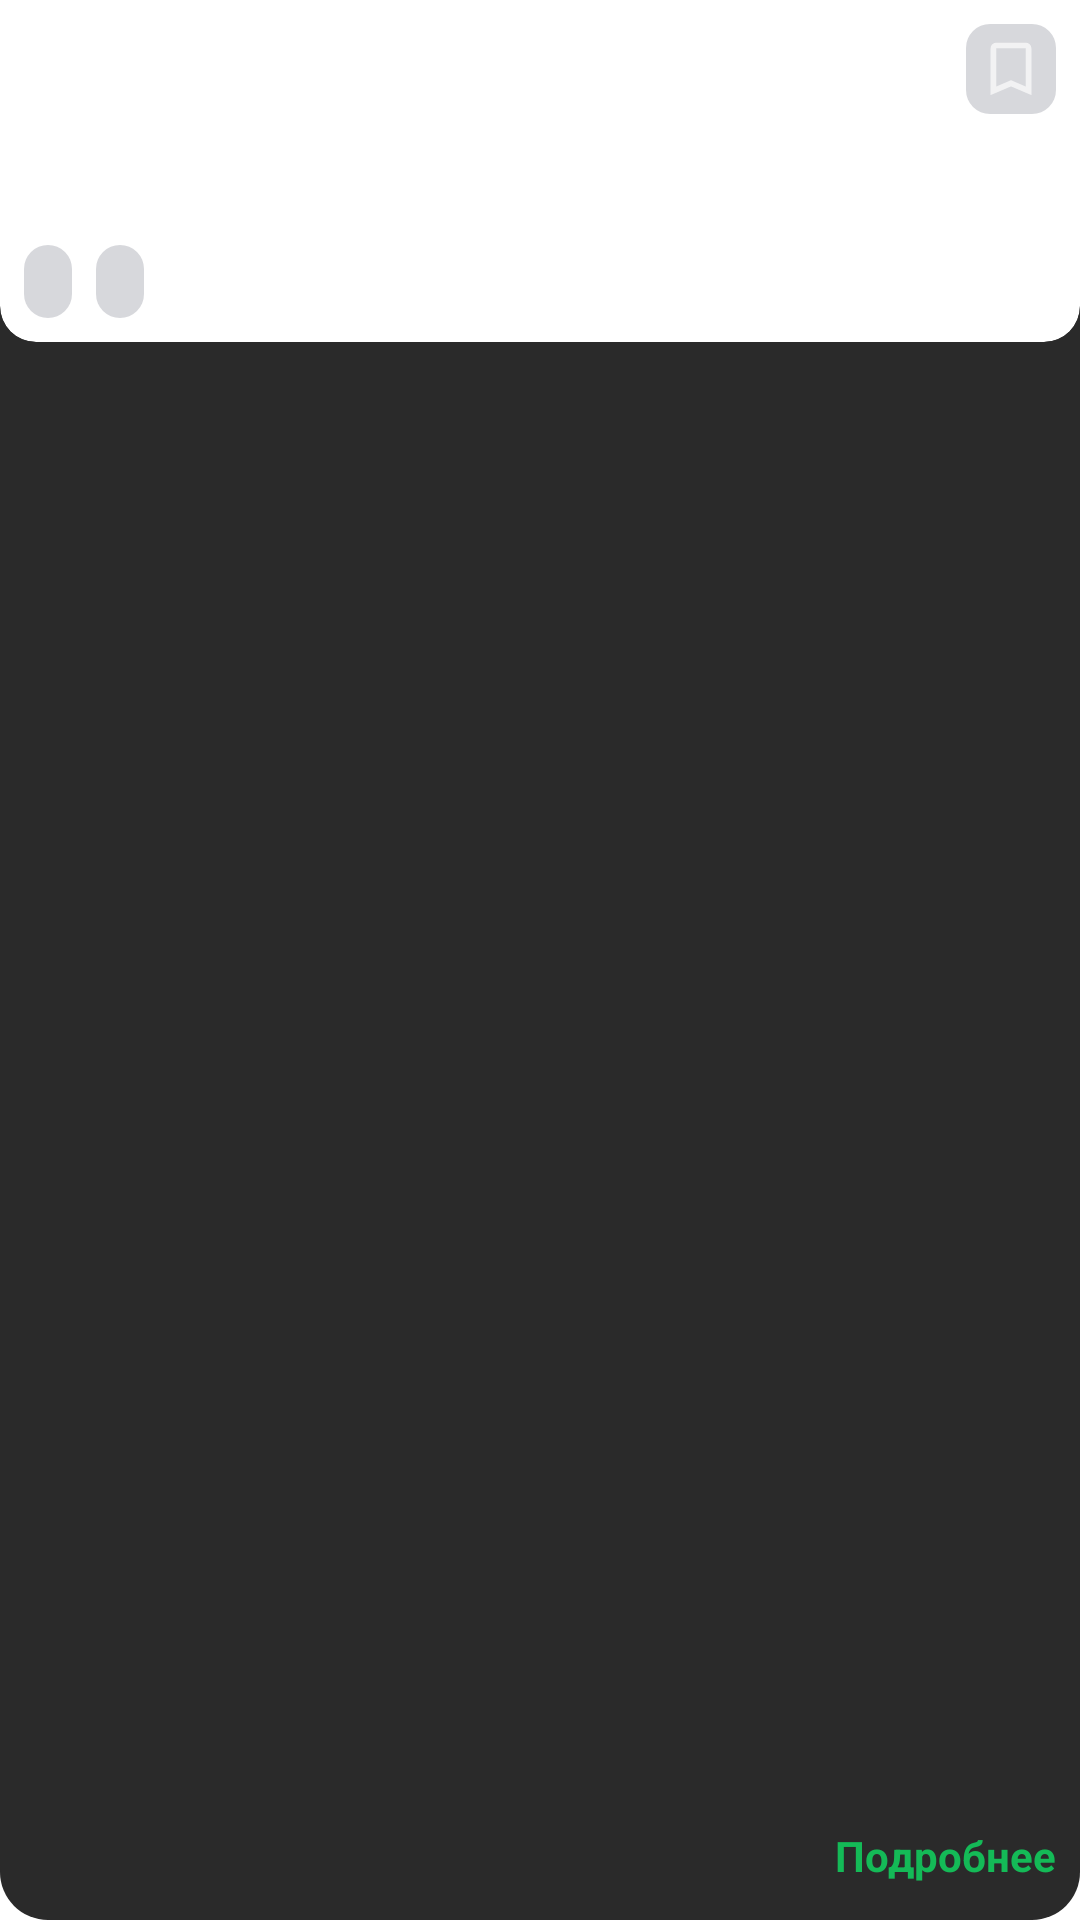

Icon click points for this 1080 × 1920 phone screenshot, format (x,y):
bookmark: (1011,69)
